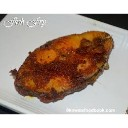seerfish: (13, 31, 113, 99)
